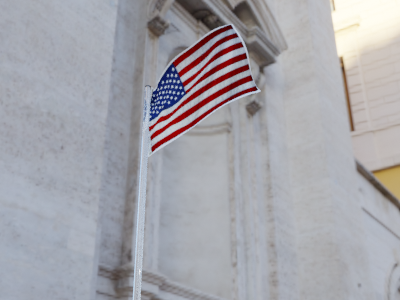America flag: (149, 23, 263, 156)
